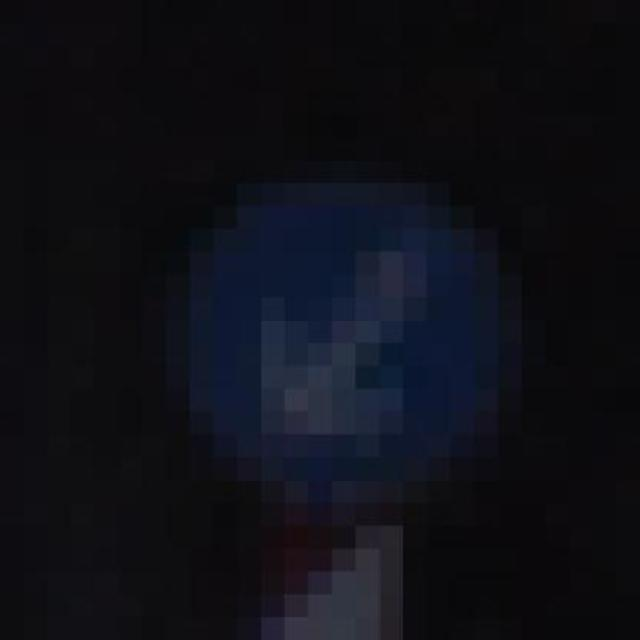Keep-Left: (142, 114, 546, 503)
